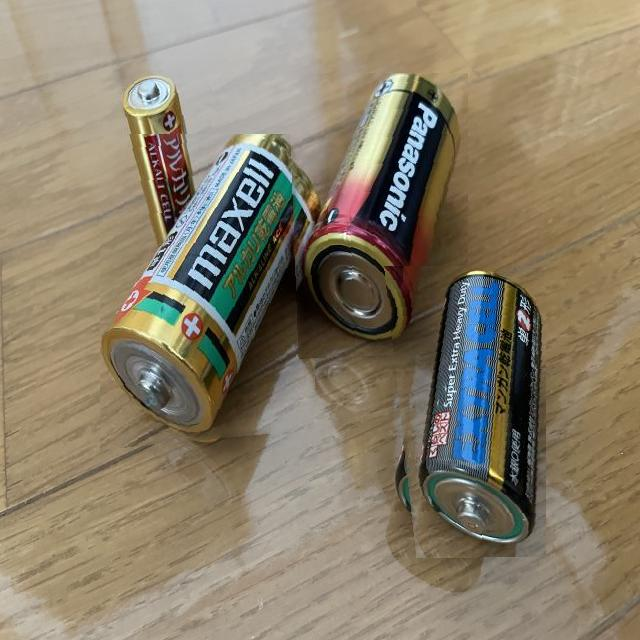battery: (100, 134, 323, 451), (288, 73, 468, 360), (384, 266, 546, 558), (116, 60, 212, 285)
